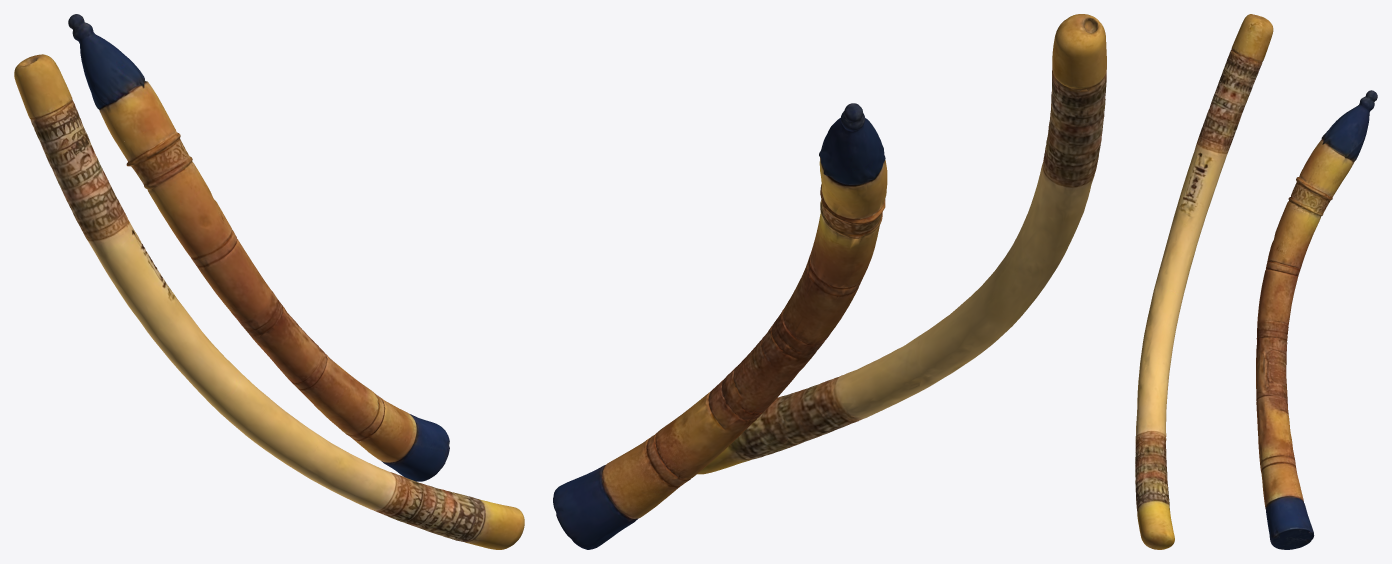
File: decorated-throwing-sticks.glb
3 renders of one model, left to right at view 1: azimuth 30°, elevation 25°; view 2: azimuth 150°, elevation 25°; view 3: azimuth 270°, elevation 25°, orthographic. The views are drawn at different scales.
Parts seen in each view (by area): view 1: tripo_node_f481878d-3624-424a-ac0a-c577816d8f81; view 2: tripo_node_f481878d-3624-424a-ac0a-c577816d8f81; view 3: tripo_node_f481878d-3624-424a-ac0a-c577816d8f81.
Boxes of the visible parts, <box> form: tripo_node_f481878d-3624-424a-ac0a-c577816d8f81: <box>14,14,524,549</box>; tripo_node_f481878d-3624-424a-ac0a-c577816d8f81: <box>553,14,1106,549</box>; tripo_node_f481878d-3624-424a-ac0a-c577816d8f81: <box>1135,14,1377,549</box>.
Size of the model in its own units: 0.8545 by 0.9793 by 0.5477.
Materials: 1 (1 with a texture image).
